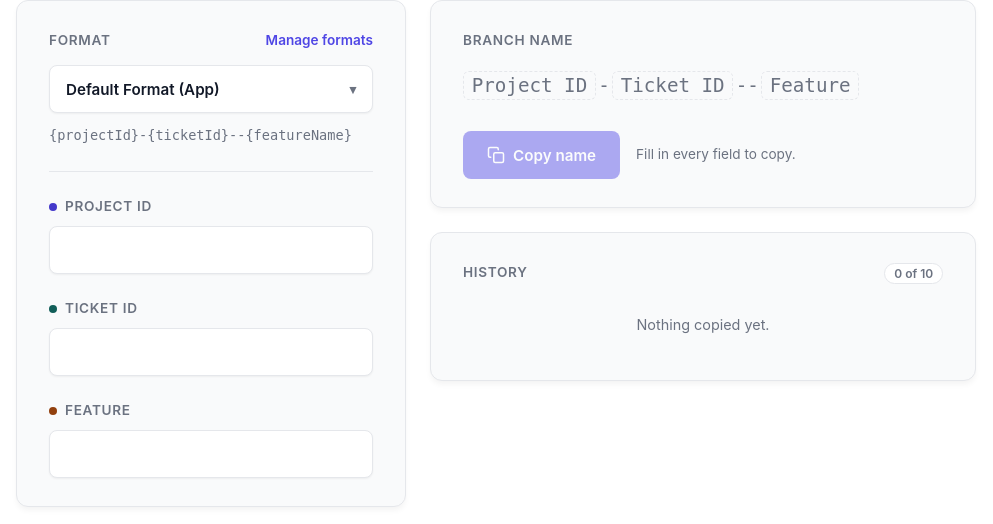
AppMainView › updates the name while typing
This screenshot has width=993, height=524.
Type "web" into the field named "projectId". click: point(211, 250)
box: [49,226,373,274]
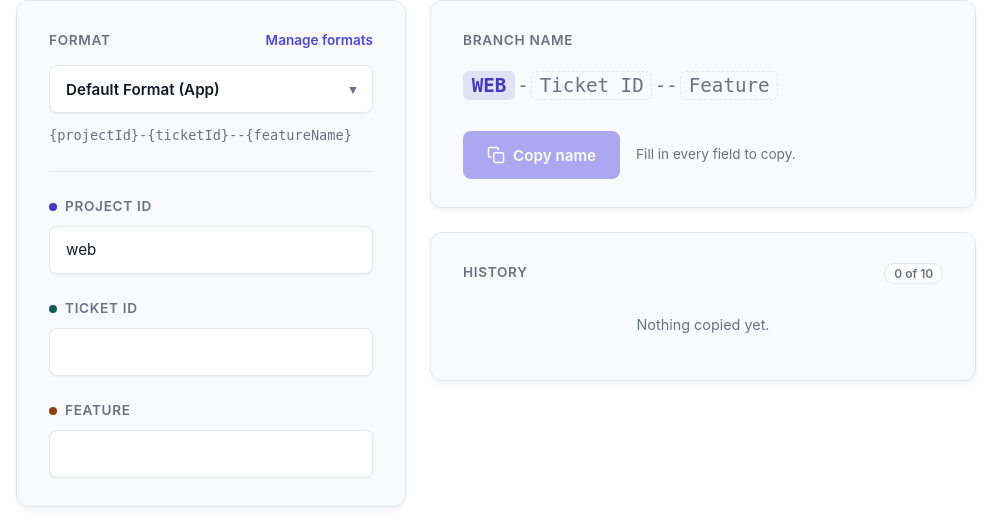
Expected: the text with class "seg" reads "WEB", [472,74,506,97]
